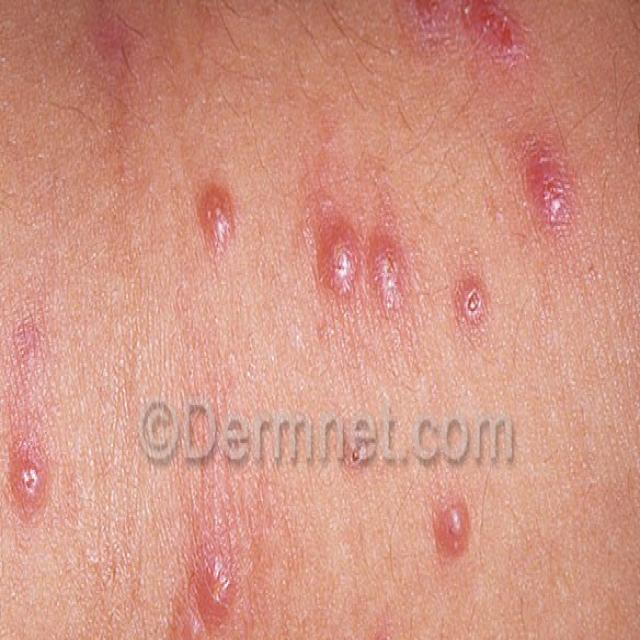Viral Infections: (301, 152, 505, 375), (390, 0, 583, 106), (517, 122, 604, 303), (160, 539, 251, 640), (5, 430, 53, 534), (427, 499, 489, 563), (197, 172, 241, 253), (357, 618, 425, 640)
